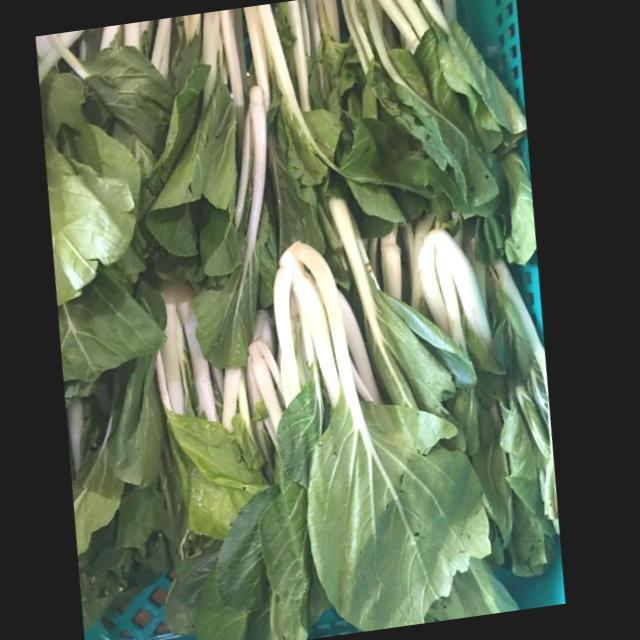biowaste: (278, 245, 498, 631), (385, 216, 568, 576), (197, 4, 344, 368), (304, 0, 457, 223), (40, 29, 163, 303), (72, 352, 193, 624), (161, 283, 271, 537), (379, 0, 530, 172), (149, 11, 240, 261), (224, 454, 336, 640), (63, 227, 171, 397), (426, 114, 541, 264), (175, 540, 279, 640), (432, 566, 529, 623)
